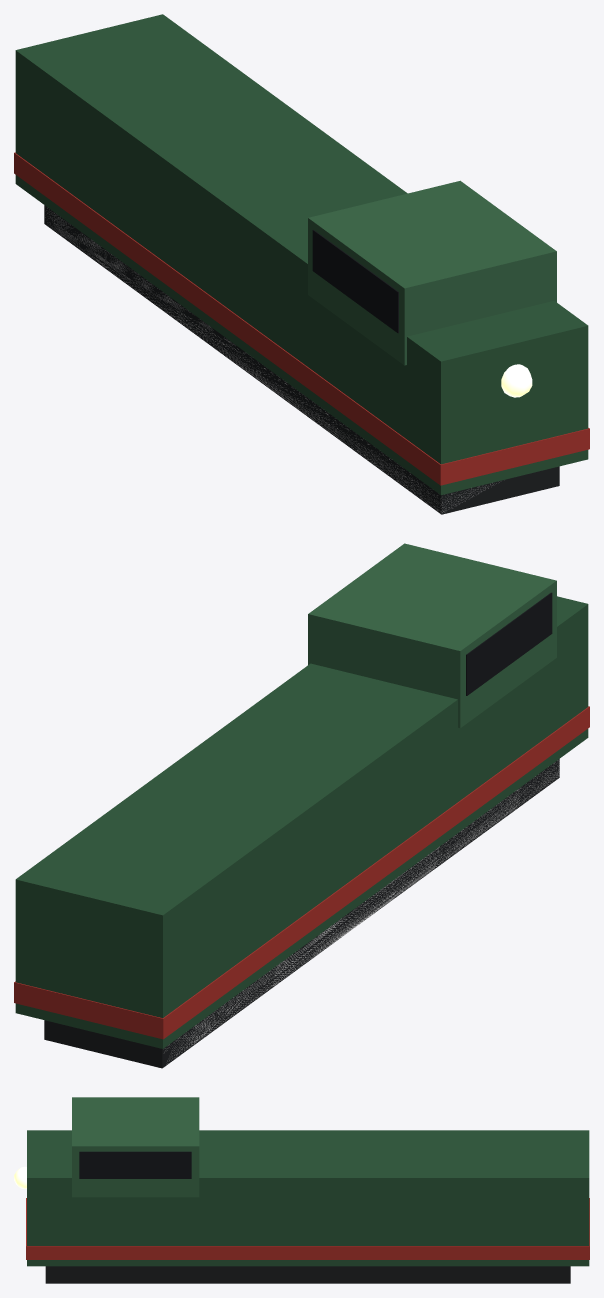
Rendered from train-loco.glb.
3 views of the same model, one above another, from view 1: azimuth 30°, elevation 25°; view 2: azimuth 150°, elevation 25°; view 3: azimuth 270°, elevation 25° (orthographic). The views are drawn at different scales.
Visible parts, largest first — view 1: 01_#2f5a3c, 03_#3a6a48, 02_#b0342c_noshadow, 00_#1e2022, 04_#16181c_noshadow, solid, 05_#ffe9b0_noshadow; view 2: 01_#2f5a3c, 03_#3a6a48, 02_#b0342c_noshadow, 00_#1e2022, solid, 04_#16181c_noshadow; view 3: 01_#2f5a3c, 03_#3a6a48, 00_#1e2022, 02_#b0342c_noshadow, 04_#16181c_noshadow.
Part boxes in pixels (x1=…): 01_#2f5a3c: x1=15, y1=14, x2=588, y2=495; 03_#3a6a48: x1=308, y1=180, x2=556, y2=365; 02_#b0342c_noshadow: x1=14, y1=152, x2=589, y2=485; 00_#1e2022: x1=44, y1=205, x2=559, y2=514; 04_#16181c_noshadow: x1=312, y1=229, x2=398, y2=333; solid: x1=45, y1=208, x2=499, y2=513; 05_#ffe9b0_noshadow: x1=501, y1=364, x2=532, y2=397; 01_#2f5a3c: x1=15, y1=596, x2=588, y2=1048; 03_#3a6a48: x1=308, y1=543, x2=556, y2=728; 02_#b0342c_noshadow: x1=14, y1=706, x2=589, y2=1039; 00_#1e2022: x1=44, y1=759, x2=559, y2=1068; solid: x1=164, y1=760, x2=559, y2=1064; 04_#16181c_noshadow: x1=466, y1=592, x2=552, y2=695; 01_#2f5a3c: x1=27, y1=1130, x2=589, y2=1266; 03_#3a6a48: x1=72, y1=1097, x2=199, y2=1197; 00_#1e2022: x1=45, y1=1266, x2=570, y2=1283; 02_#b0342c_noshadow: x1=26, y1=1198, x2=589, y2=1259; 04_#16181c_noshadow: x1=79, y1=1151, x2=191, y2=1178.
Size of the model in its own units: 3.14 by 4.2 by 15.36.
